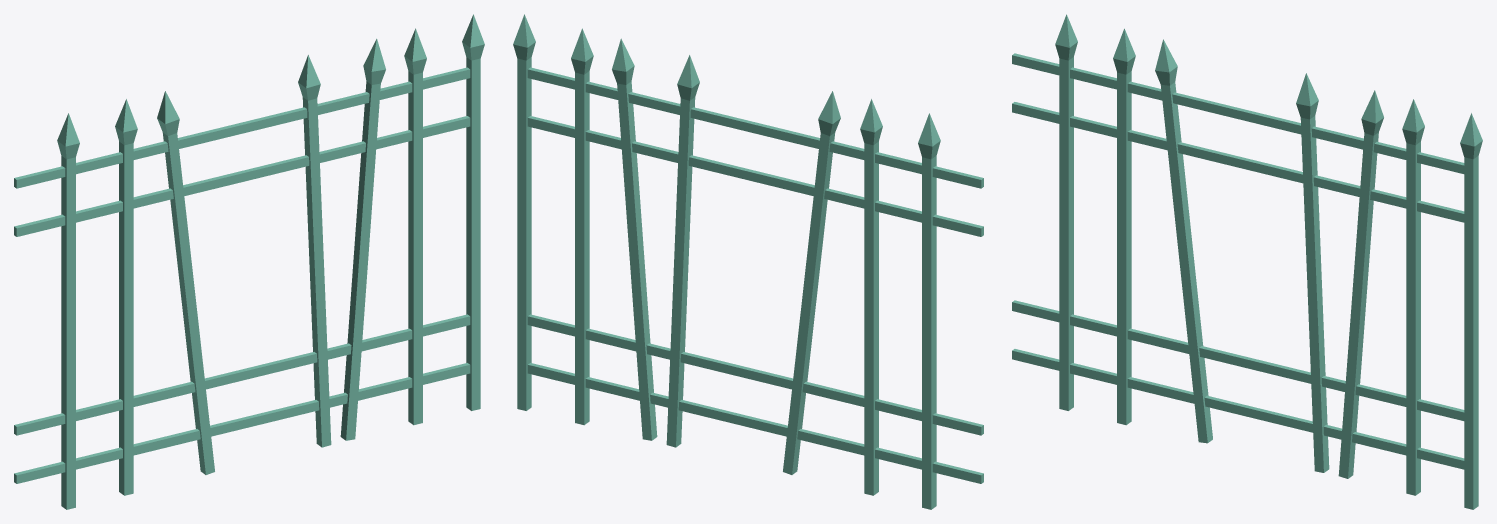
The model's file is fenceIronOpening.obj.
The picture shows the model from 3 angles, left to right: view 1: azimuth 30°, elevation 25°; view 2: azimuth 150°, elevation 25°; view 3: azimuth 330°, elevation 25°; orthographic projection.
Visible parts, largest first — view 1: bar 41, bar 40, bar 43, bar 35, bar 42, bar 44, bar 45, bar 39, bar 36, bar 37, bar 38; view 2: bar 41, bar 40, bar 43, bar 35, bar 42, bar 44, bar 45, bar 39, bar 36, bar 37, bar 38; view 3: bar 45, bar 40, bar 42, bar 44, bar 35, bar 43, bar 41, bar 37, bar 38, bar 39, bar 36.
Boxes of the visible parts, box(x1,y1,x2,y2) form: bar 41: box(340, 38, 385, 440); bar 40: box(298, 55, 331, 447); bar 43: box(115, 99, 137, 495); bar 35: box(57, 113, 79, 509); bar 42: box(462, 14, 484, 410); bar 44: box(404, 28, 426, 425); bar 45: box(157, 91, 214, 474); bar 39: box(14, 363, 470, 483); bar 36: box(14, 314, 470, 435); bar 37: box(14, 67, 470, 188); bar 38: box(14, 116, 470, 236); bar 41: box(612, 38, 657, 440); bar 40: box(666, 55, 699, 447); bar 43: box(860, 99, 882, 495); bar 35: box(918, 113, 940, 509); bar 42: box(513, 14, 535, 410); bar 44: box(571, 28, 593, 425); bar 45: box(783, 91, 840, 474); bar 39: box(527, 363, 983, 483); bar 36: box(527, 314, 983, 435); bar 37: box(527, 67, 983, 188); bar 38: box(527, 116, 983, 236); bar 45: box(1155, 39, 1212, 443); bar 40: box(1296, 73, 1329, 472); bar 42: box(1460, 113, 1482, 509); bar 44: box(1402, 99, 1424, 495); bar 35: box(1055, 14, 1077, 410); bar 43: box(1113, 28, 1135, 425); bar 41: box(1338, 90, 1383, 478); bar 37: box(1012, 53, 1464, 173); bar 38: box(1012, 102, 1464, 222); bar 39: box(1012, 349, 1464, 469); bar 36: box(1012, 300, 1464, 420).
Bounding box in the file's own units: 10.06 × 8.14 × 0.314.
